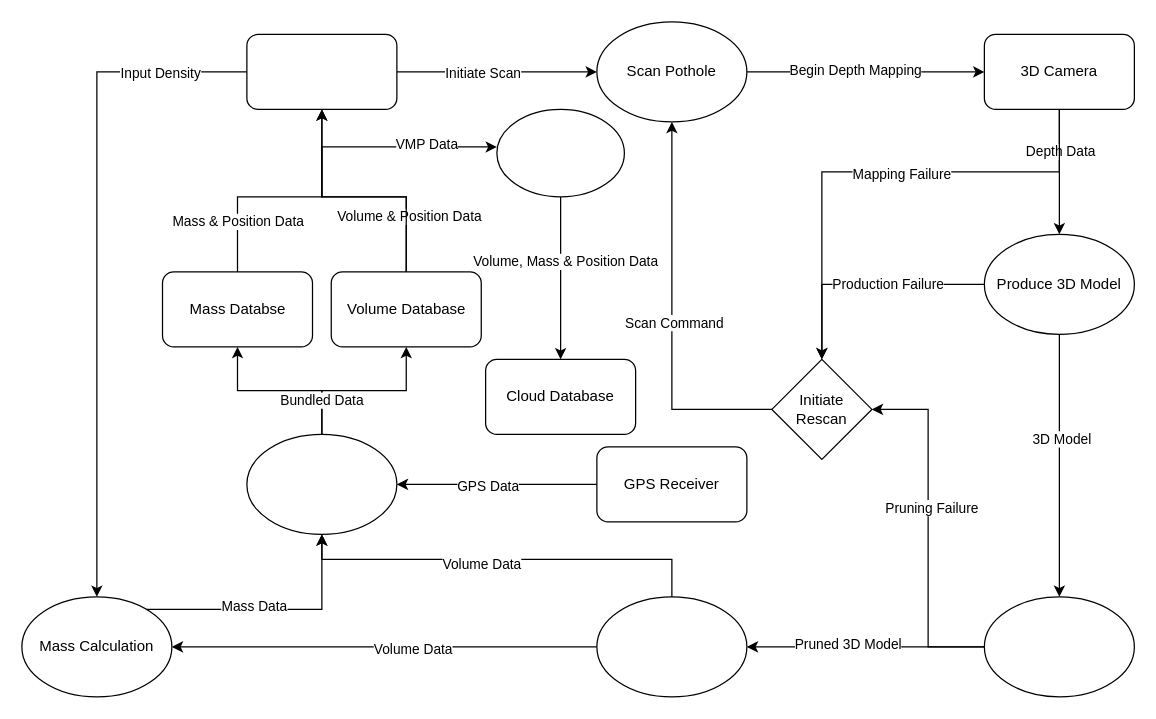
The diagram is 1156 pixels wide and 719 high, and some of its shapes have lost their labels. The shapes that lost their labels are listed below. From the top down, each one's box as (x1, y1, x2, y2) in pixels, then its label:
(246, 33, 397, 109): User
(496, 108, 624, 197): Detect Network Connection
(246, 433, 397, 534): Bundle w/ GPS Data
(596, 596, 747, 697): Volume Calculation
(983, 596, 1134, 697): Prune 3D Model at Pothole edge
